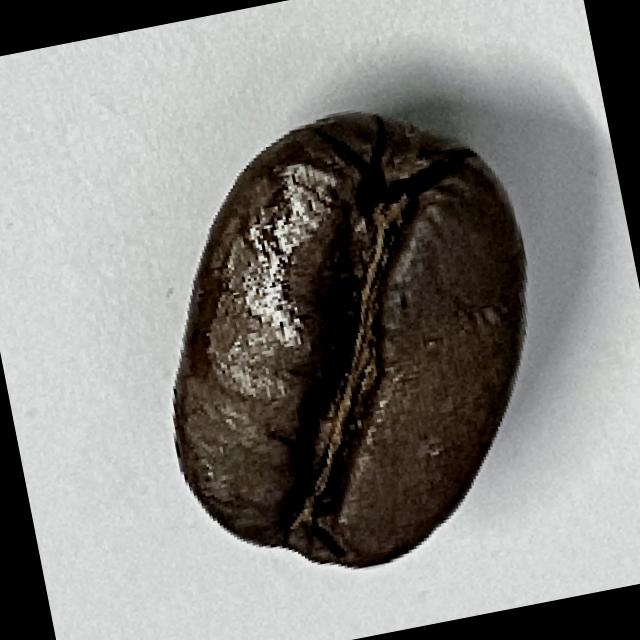bean: (106, 78, 599, 604)
